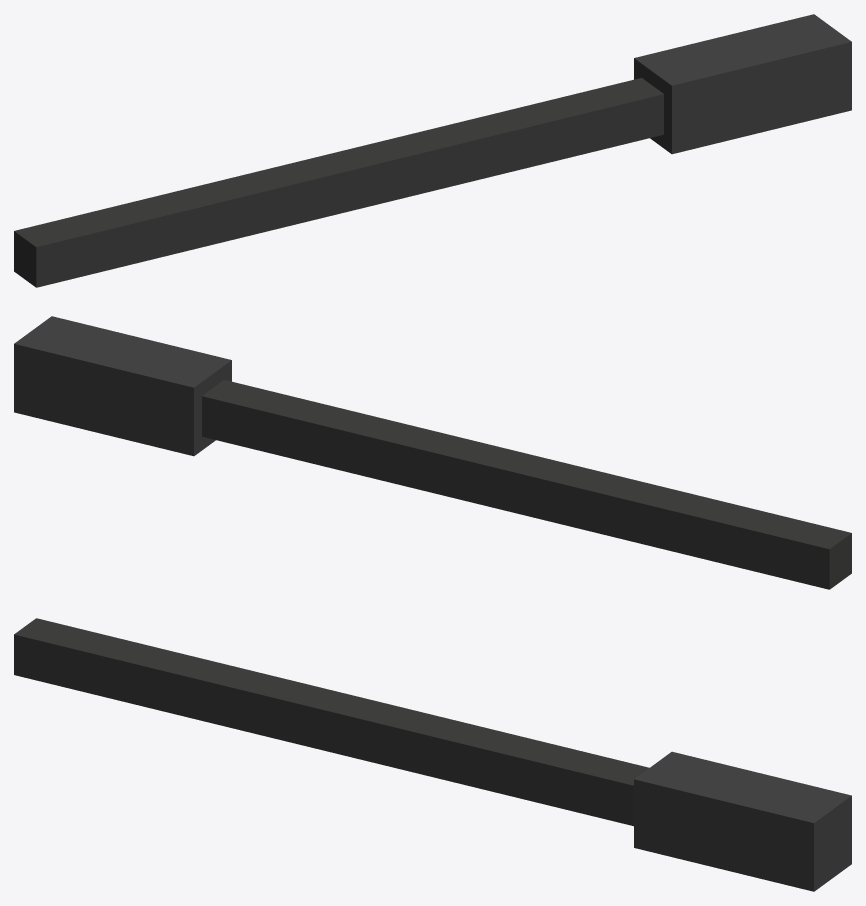
Rendered from Cable_B_1_1.fbx.
3 renders of one model, top to bottom at view 1: azimuth 30°, elevation 25°; view 2: azimuth 150°, elevation 25°; view 3: azimuth 330°, elevation 25°, orthographic.
Visible parts, largest first — view 1: Cable_B_1_1; view 2: Cable_B_1_1; view 3: Cable_B_1_1.
Part boxes in pixels (x1,y1,x2,y2): Cable_B_1_1: [14, 14, 851, 287]; Cable_B_1_1: [14, 316, 851, 589]; Cable_B_1_1: [14, 618, 851, 891].
Bounding box in the file's own units: 121 × 9.83 × 9.83.
